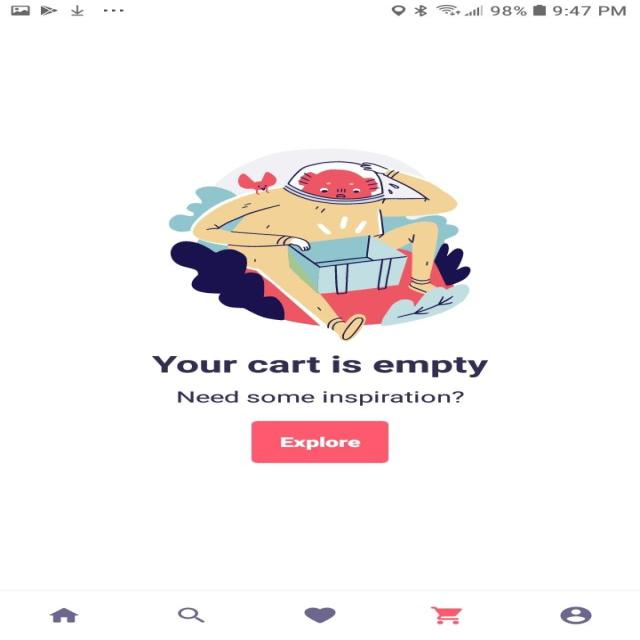Icon: (430, 605, 462, 624), (559, 605, 591, 624), (304, 606, 336, 623), (50, 608, 80, 622), (178, 607, 205, 622)
Image: (168, 148, 471, 342)
Text: (151, 354, 488, 378), (177, 390, 464, 406)
TextButton: (250, 421, 388, 463)
